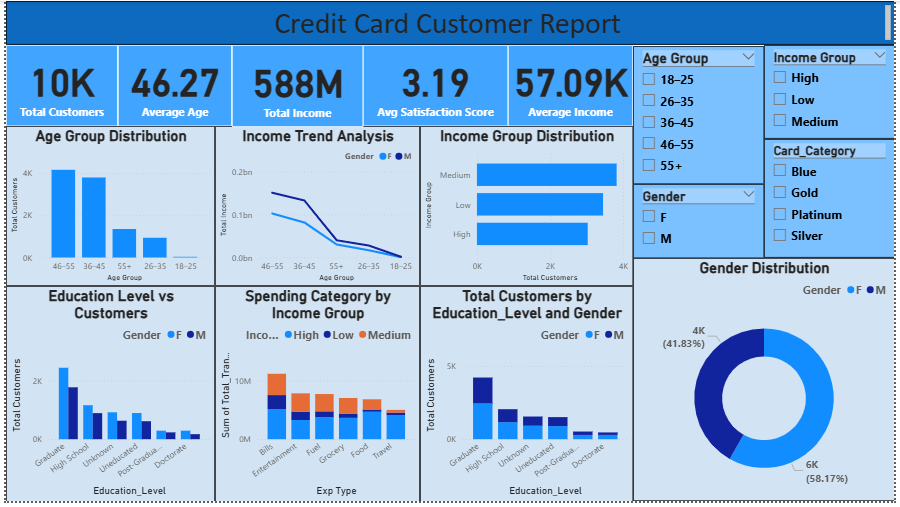

This screenshot's page, from the dashboard's own definition file:
{"tool":"powerbi","page":{"name":" Credit Card Customer Report","canvas":[1280,720],"ordinal":0},"visuals":[{"type":"card","fields":{"Values":["Customer.Total Customers"]},"box":[0,63.4,161.3,116.6],"z":0},{"type":"card","fields":{"Values":["Customer.Average Age"]},"box":[161.3,63.4,164.2,116.6],"z":1000},{"type":"card","fields":{"Values":["Customer.Average Income"]},"box":[722.9,63.4,180,116.6],"z":2000},{"type":"card","fields":{"Values":["Customer.Avg Satisfaction Score"]},"box":[514.1,63.4,208.8,116.6],"z":3000},{"type":"donutChart","title":"Gender Distribution","fields":{"Category":["Customer.Gender"],"Y":["Customer.Total Customers"]},"box":[902.9,370.1,377.3,349.9],"z":4000},{"type":"clusteredColumnChart","title":"Age Group Distribution","fields":{"Category":["Customer.Age Group"],"Y":["Customer.Total Customers"]},"box":[0,180,301,230.4],"z":5000},{"type":"barChart","title":"Income Group Distribution","fields":{"Category":["Customer.Income Group"],"Y":["Customer.Total Customers"]},"box":[596.2,180,306.7,230.4],"z":6000},{"type":"clusteredColumnChart","title":"Education Level vs Customers","fields":{"Category":["Customer.Education_Level"],"Y":["Customer.Total Customers"],"Series":["Customer.Gender"]},"box":[0,410.4,301,309.6],"z":7000},{"type":"slicer","fields":{"Values":["Customer.Gender"]},"box":[902.9,263.5,188.6,106.6],"z":8000},{"type":"slicer","fields":{"Values":["Customer.Age Group"]},"box":[902.9,64.8,188.6,198.7],"z":9000},{"type":"slicer","fields":{"Values":["Customer.Income Group"]},"box":[1091.5,63.4,188.6,135.4],"z":10000},{"type":"textbox","box":[0,0,1280.2,63.4],"z":11000},{"type":"columnChart","fields":{"Category":["Customer.Education_Level"],"Y":["Customer.Total Customers"],"Series":["Customer.Gender"]},"box":[596.2,410.4,306.7,309.6],"z":12000},{"type":"lineChart","title":"Income Trend Analysis","fields":{"Category":["Customer.Age Group"],"Series":["Customer.Gender"],"Y":["Customer.Total Income"]},"box":[301,180,295.2,230.4],"z":13000},{"type":"columnChart","title":"Spending Category by Income Group","fields":{"Y":["Sum(Transaction.Total_Trans_Amt)"],"Category":["Transaction.Exp Type"],"Series":["Customer.Income Group"]},"box":[301,410.4,295.2,309.6],"z":14000},{"type":"card","fields":{"Values":["Customer.Total Income"]},"box":[325.4,63.4,188.6,118.1],"z":15000},{"type":"slicer","fields":{"Values":["Transaction.Card_Category"]},"box":[1091.5,198.7,188.6,171.4],"z":15001}]}

Visuals, with their boxes in screenshot pixels (x1, y1, x2, y2), scaled from the page's 1280x720 canvas onto the 900x507 screenshot:
card - Customer.Total Customers: {"left": 0, "top": 45, "right": 113, "bottom": 127}
card - Customer.Average Age: {"left": 113, "top": 45, "right": 229, "bottom": 127}
card - Customer.Average Income: {"left": 508, "top": 45, "right": 635, "bottom": 127}
card - Customer.Avg Satisfaction Score: {"left": 361, "top": 45, "right": 508, "bottom": 127}
"Gender Distribution" donutChart: {"left": 635, "top": 261, "right": 899, "bottom": 506}
"Age Group Distribution" clusteredColumnChart: {"left": 0, "top": 127, "right": 212, "bottom": 289}
"Income Group Distribution" barChart: {"left": 419, "top": 127, "right": 635, "bottom": 289}
"Education Level vs Customers" clusteredColumnChart: {"left": 0, "top": 289, "right": 212, "bottom": 506}
slicer - Customer.Gender: {"left": 635, "top": 186, "right": 767, "bottom": 261}
slicer - Customer.Age Group: {"left": 635, "top": 46, "right": 767, "bottom": 186}
slicer - Customer.Income Group: {"left": 767, "top": 45, "right": 899, "bottom": 140}
textbox: {"left": 0, "top": 0, "right": 899, "bottom": 45}
columnChart - Customer.Education_Level x Customer.Total Customers: {"left": 419, "top": 289, "right": 635, "bottom": 506}
"Income Trend Analysis" lineChart: {"left": 212, "top": 127, "right": 419, "bottom": 289}
"Spending Category by Income Group" columnChart: {"left": 212, "top": 289, "right": 419, "bottom": 506}
card - Customer.Total Income: {"left": 229, "top": 45, "right": 361, "bottom": 128}
slicer - Transaction.Card_Category: {"left": 767, "top": 140, "right": 899, "bottom": 261}
